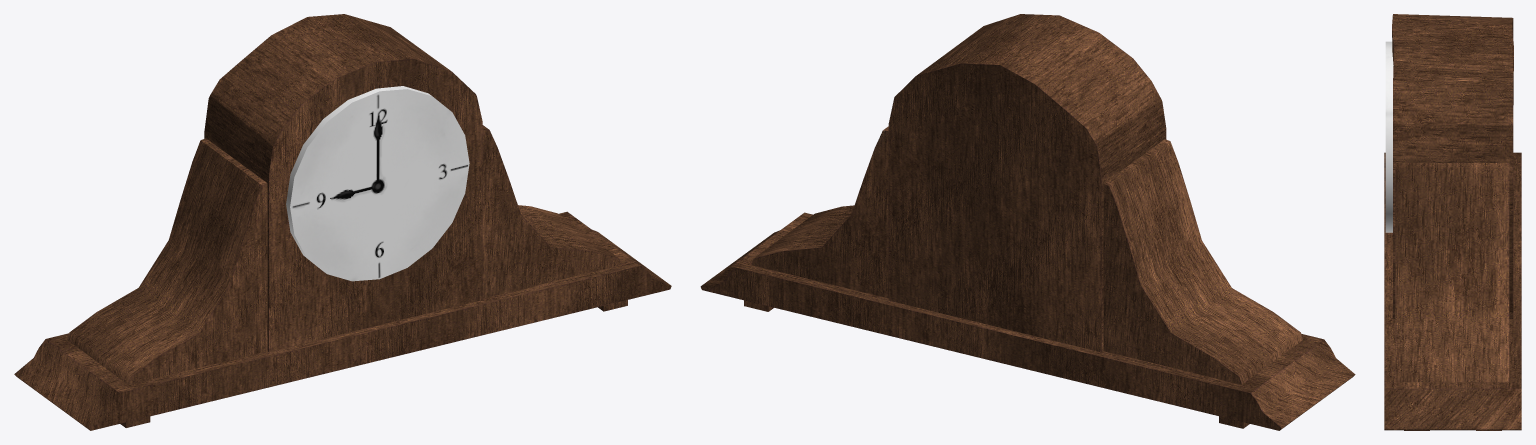
The model's file is clock_gltf_export.glb.
3 renders of one model, left to right at view 1: azimuth 30°, elevation 25°; view 2: azimuth 150°, elevation 25°; view 3: azimuth 270°, elevation 25°, orthographic. The views are drawn at different scales.
Parts seen in each view (by area): view 1: mid, front_circ, l_side, base, r_side; view 2: mid, l_side, base, r_side; view 3: r_side, mid, base, front_circ.
Boxes of the visible parts, x1,y1,x2,y2 form: mid: (204, 14, 482, 351); front_circ: (286, 86, 469, 281); l_side: (67, 138, 267, 384); base: (14, 211, 671, 430); r_side: (482, 125, 621, 298); mid: (888, 14, 1166, 352); l_side: (1103, 139, 1302, 384); base: (700, 212, 1355, 430); r_side: (751, 126, 888, 298); r_side: (1395, 163, 1509, 382); mid: (1392, 14, 1513, 318); base: (1384, 152, 1521, 430); front_circ: (1385, 41, 1393, 232).
Size of the model in its own units: 19.28 by 9.83 by 4.23.
Materials: 1 (1 with a texture image).
